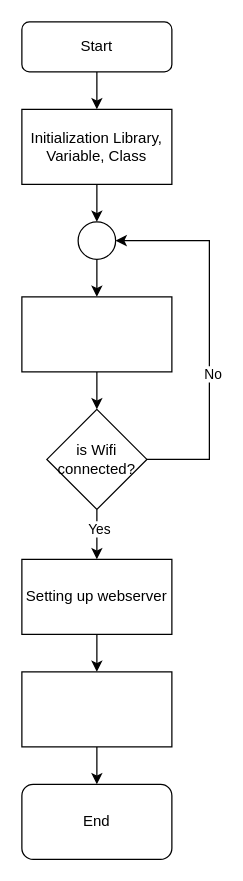
This 243x881 diagram has some shape labels left out. Each missing label, with the box of its shape:
Connect to access point: (21, 296, 172, 372)
Data acquisition: (21, 671, 172, 747)
